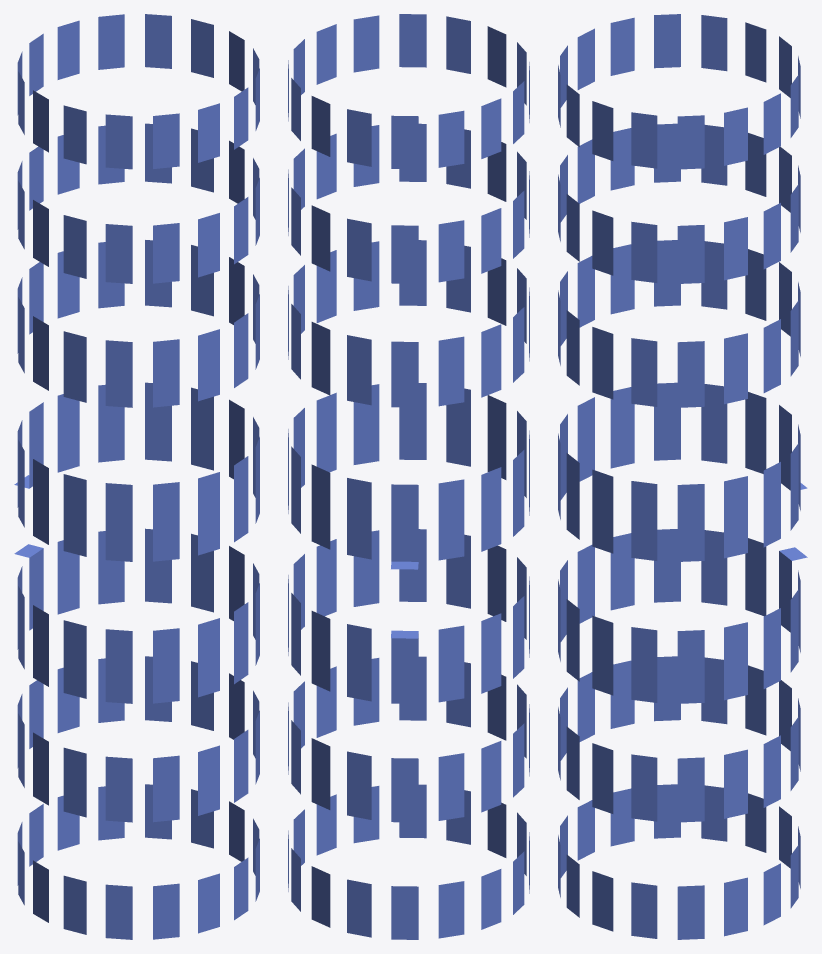
File: cylinder.002_lev1_lev3.glb
3 renders of one model, left to right at view 1: azimuth 30°, elevation 25°; view 2: azimuth 150°, elevation 25°; view 3: azimuth 270°, elevation 25°, orthographic.
Parts seen in each view (by area): view 1: cylinder.002_lev1_lev3; view 2: cylinder.002_lev1_lev3; view 3: cylinder.002_lev1_lev3.
Part boxes in pixels (left/top/right/bottom): cylinder.002_lev1_lev3: left=14, top=14, right=259, bottom=939; cylinder.002_lev1_lev3: left=288, top=14, right=529, bottom=939; cylinder.002_lev1_lev3: left=558, top=14, right=807, bottom=939.
Bounding box in the file's own units: 8.29 × 31.09 × 8.54.
